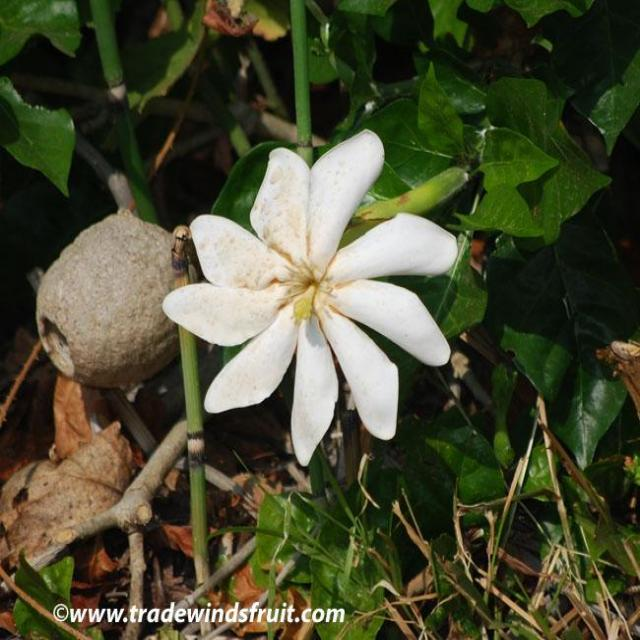organic waste: (170, 119, 474, 462)
